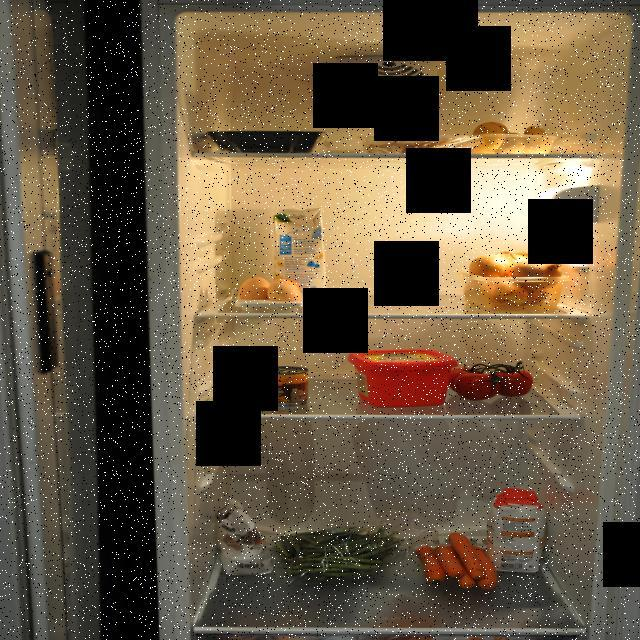Cebolla: (459, 248, 564, 312)
Gambas/Langostinos: (360, 135, 460, 156)
Huevos: (234, 274, 301, 306)
Leche: (270, 207, 322, 303)
Mantequilla: (341, 348, 449, 408)
Patata: (459, 120, 552, 154)
Tomate: (444, 360, 534, 400)
Zanahoria: (414, 530, 494, 594)
